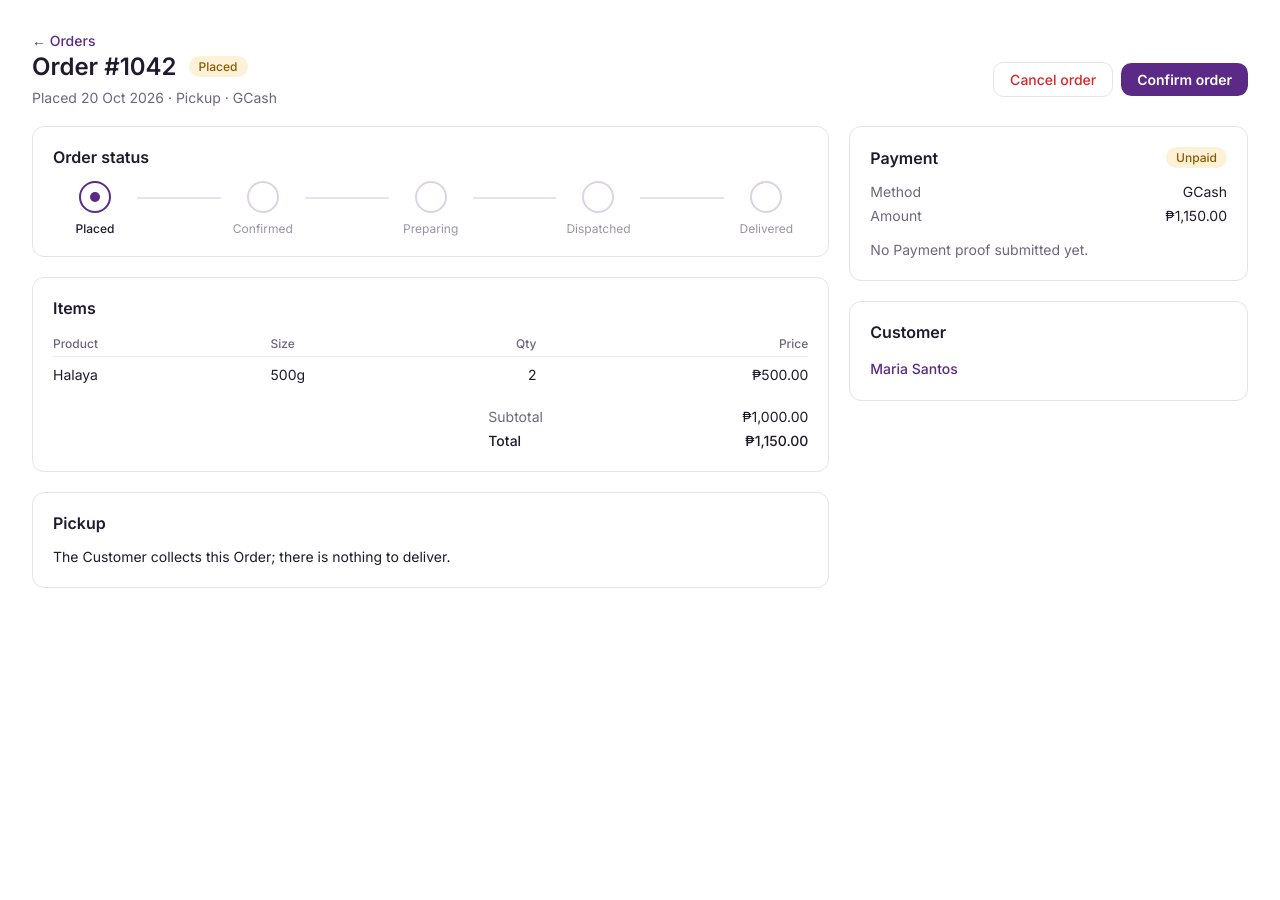
it: the Orders Module's actions on an Order's detail › asks before confirming a Pickup Order, then confirms once the server does
Click the button "Confirm order": (1185, 79) [1121,62,1248,96]
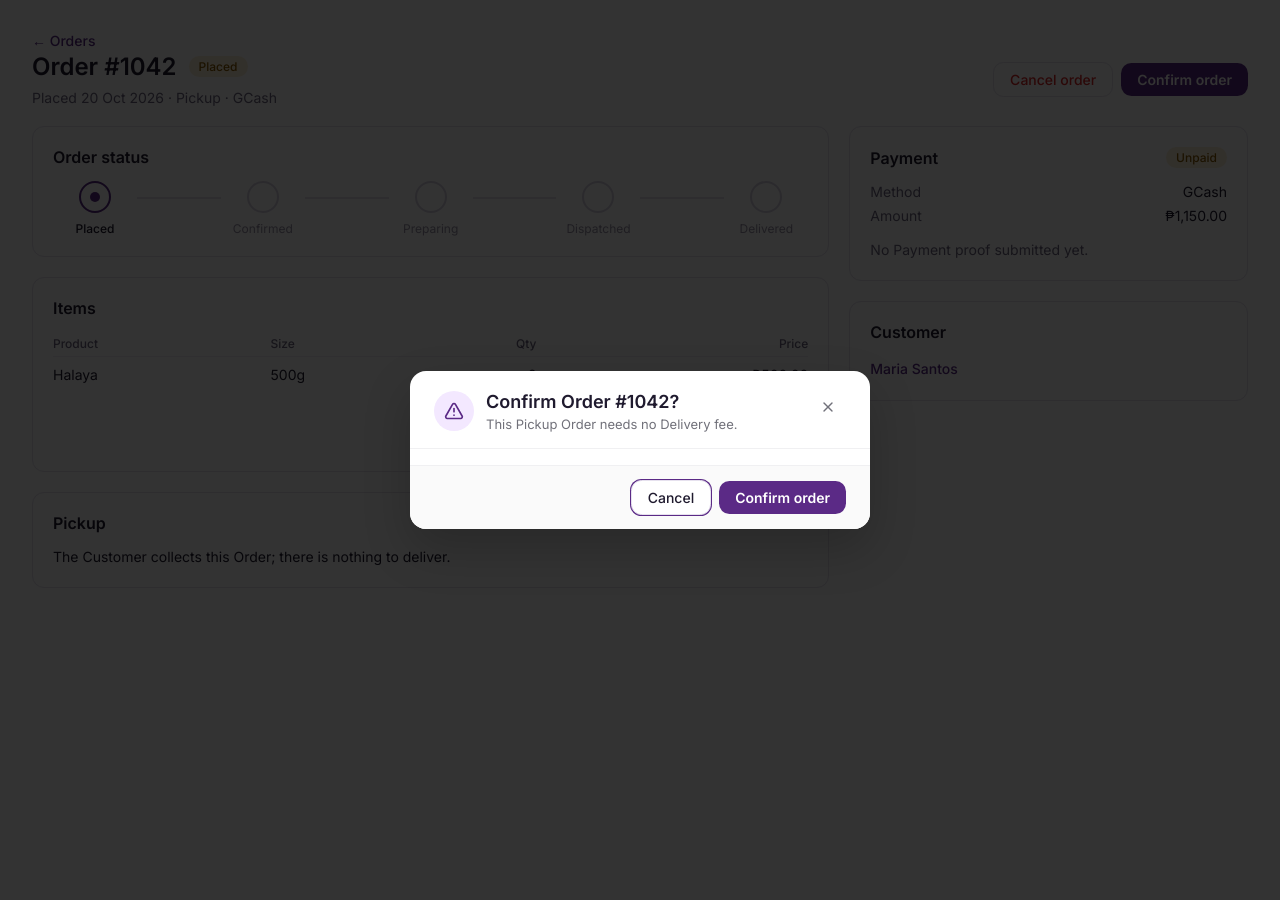
Click the button "Confirm order": (783, 498) [719,481,846,514]
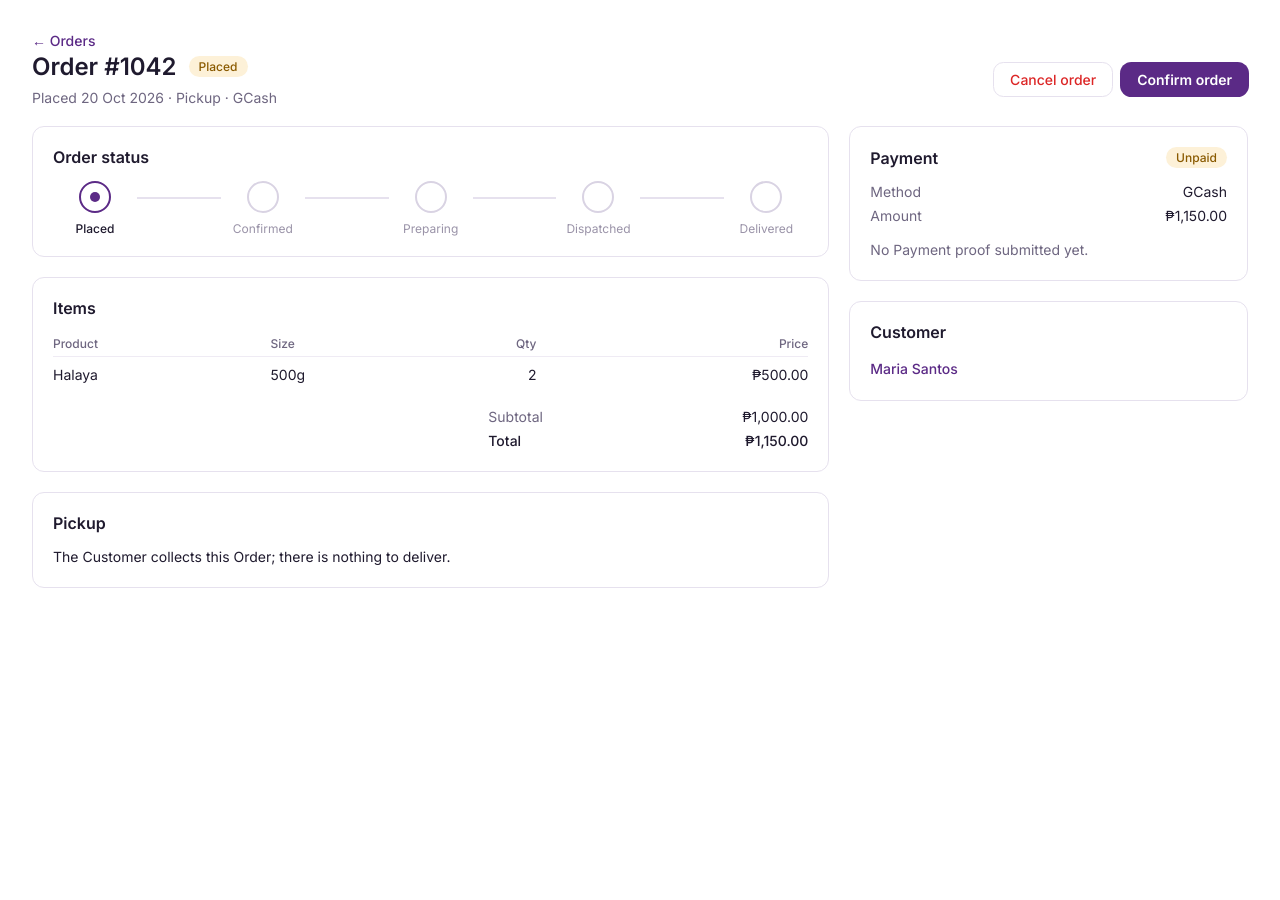
Expected: the dialog is gone
